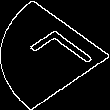L_SE: (15, 26, 96, 84)
